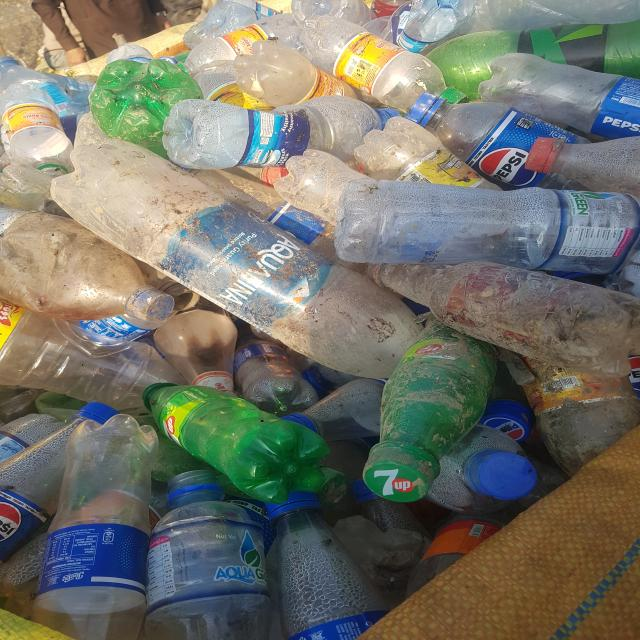general: (49, 112, 423, 380), (142, 381, 344, 504), (140, 451, 264, 638), (355, 322, 486, 497), (0, 401, 120, 563)
